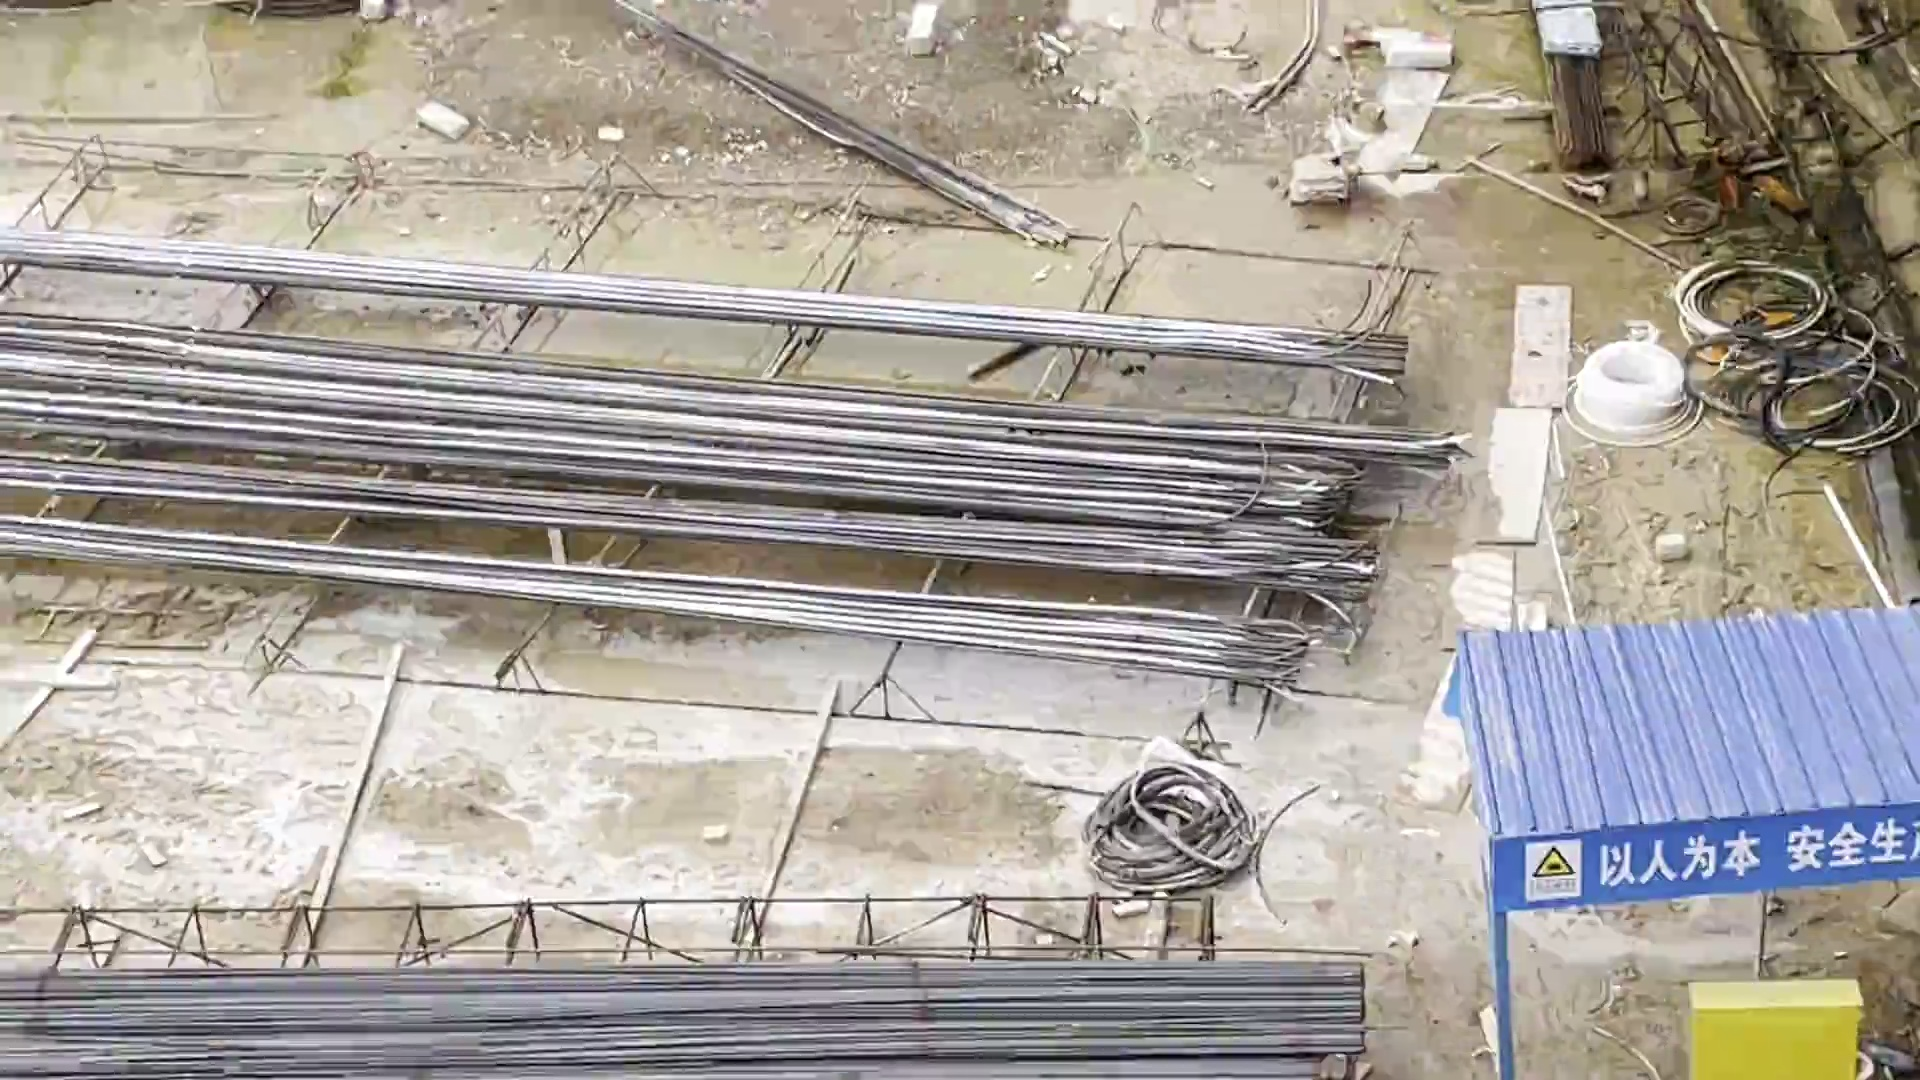ebox: (1683, 964, 1834, 1080)
rebar: (127, 229, 1381, 680), (123, 931, 1447, 1080)
slogan: (1506, 814, 1920, 884)
